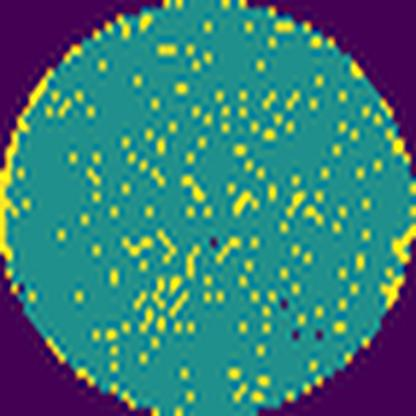Edge-Ring: (0, 59, 62, 289)
